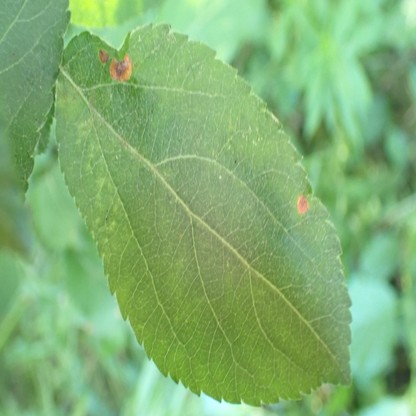frogeye_leaf_spot: (110, 55, 132, 83), (297, 194, 309, 216), (98, 49, 109, 64)
